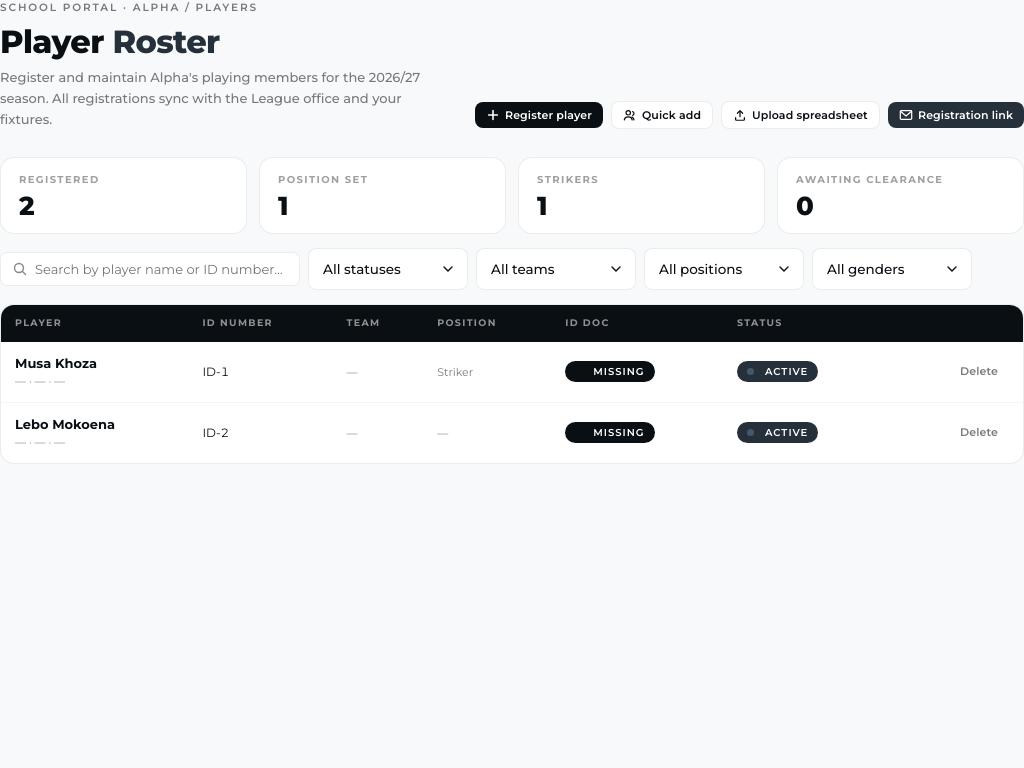
ClubPlayersView — positions profile (football) › an explicit module.veterans=true brings the veterans section back
Click the text "Musa Khoza": point(56, 363) [15,355,97,371]
(page scrolled)
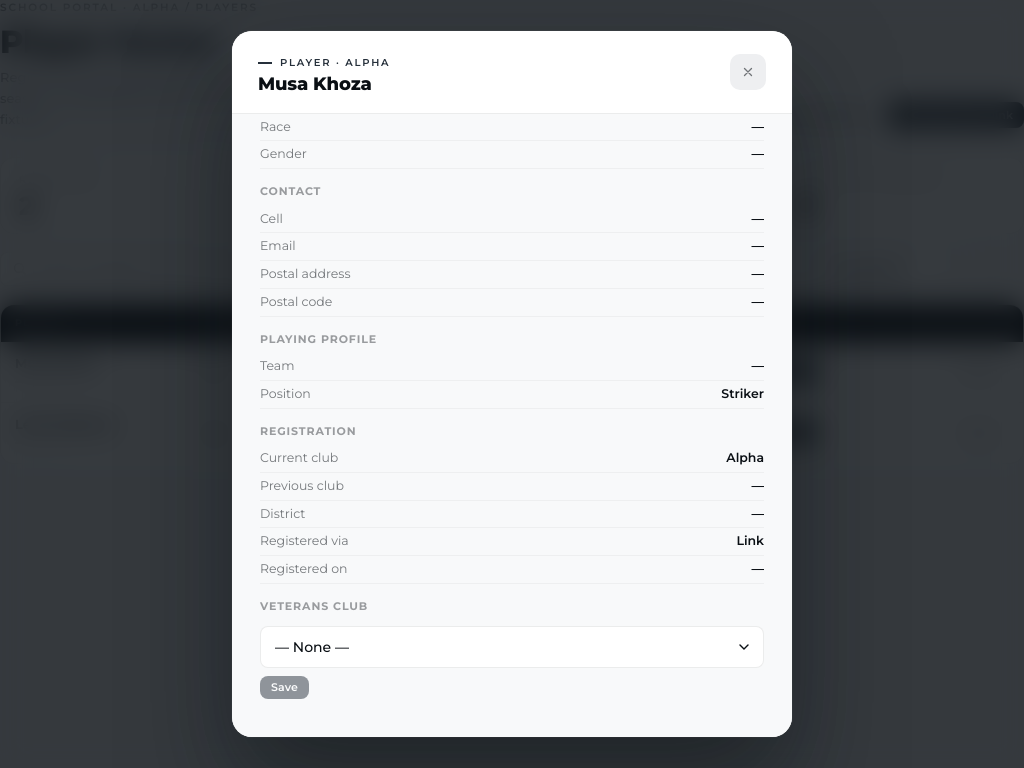
Now the text "Veterans club" is shown, box [260,599,368,613]
